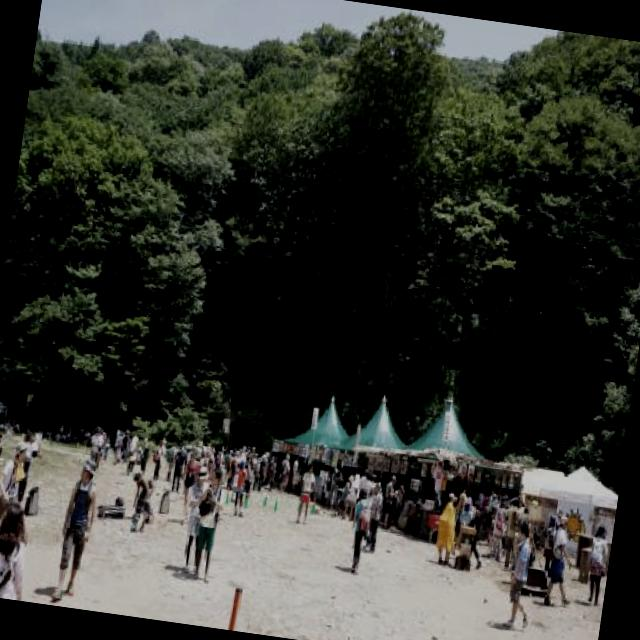Person: (42, 458, 95, 598), (184, 464, 230, 588), (176, 462, 213, 582), (504, 518, 542, 630), (538, 514, 578, 609), (0, 497, 36, 601), (0, 436, 30, 555), (458, 494, 491, 576), (431, 489, 462, 570), (344, 486, 373, 572), (126, 466, 158, 536), (364, 478, 390, 556), (584, 522, 608, 606), (294, 460, 320, 528), (455, 497, 476, 562)
